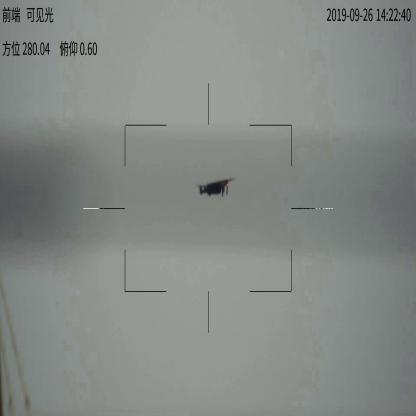uav: (191, 176, 236, 200)
